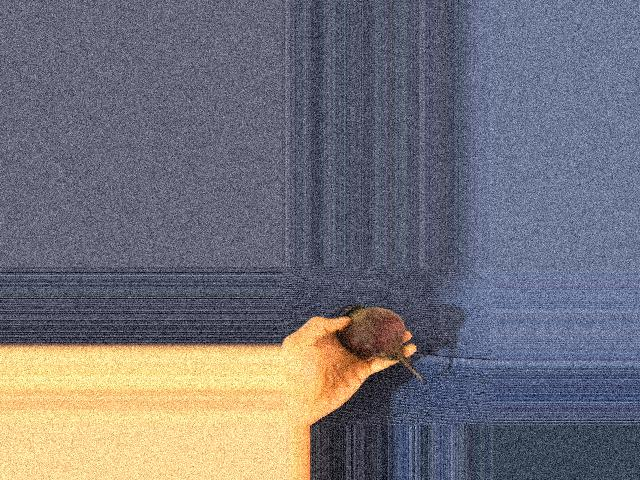beet: (337, 304, 423, 382)
